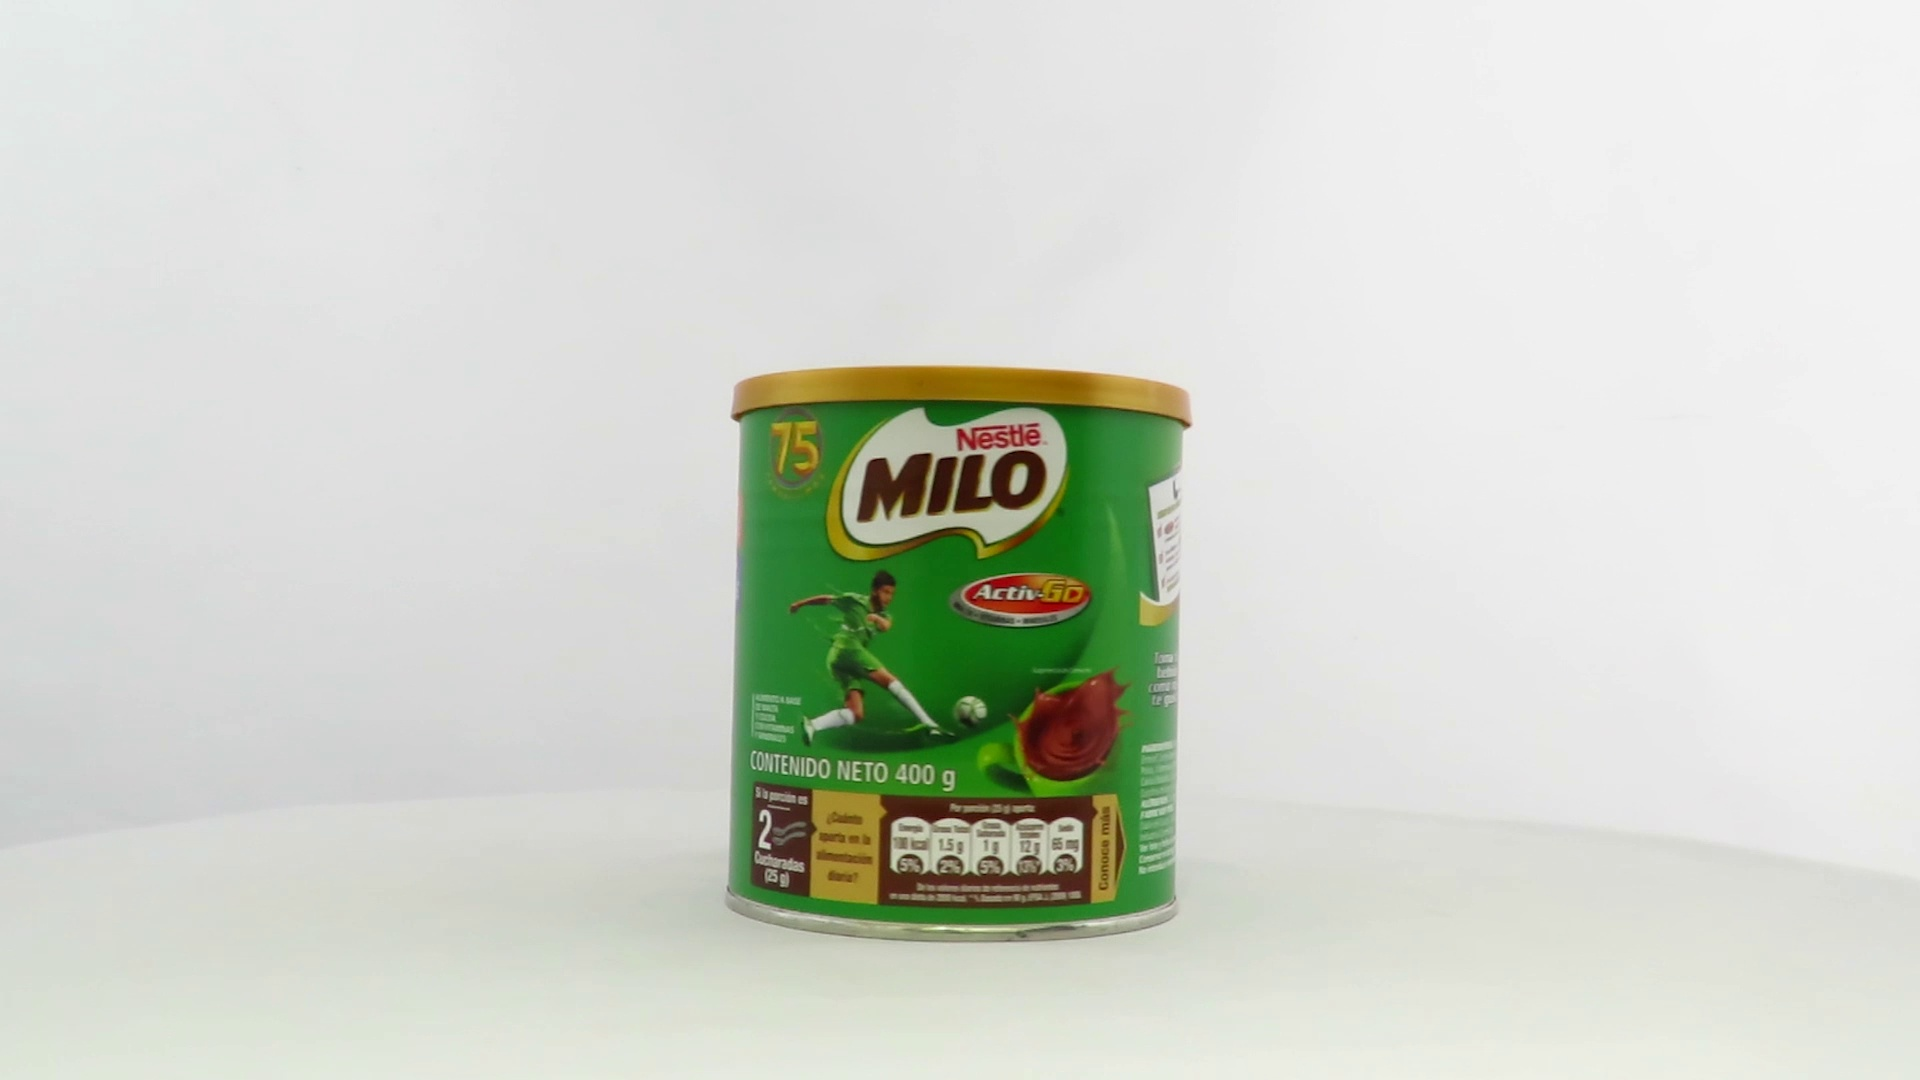COL0170203LAT40000: (719, 360, 1197, 949)
